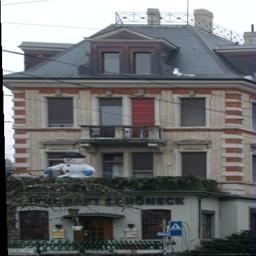building: (13, 24, 256, 255)
